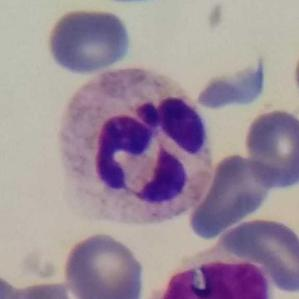Monocyte: (146, 251, 290, 298)
Neutrophil: (44, 59, 228, 240)
RBC: (184, 150, 276, 242), (216, 214, 299, 297), (44, 5, 134, 76), (59, 229, 148, 299), (241, 106, 299, 192), (191, 55, 271, 113), (3, 277, 89, 299), (0, 268, 33, 299), (290, 37, 299, 115)
